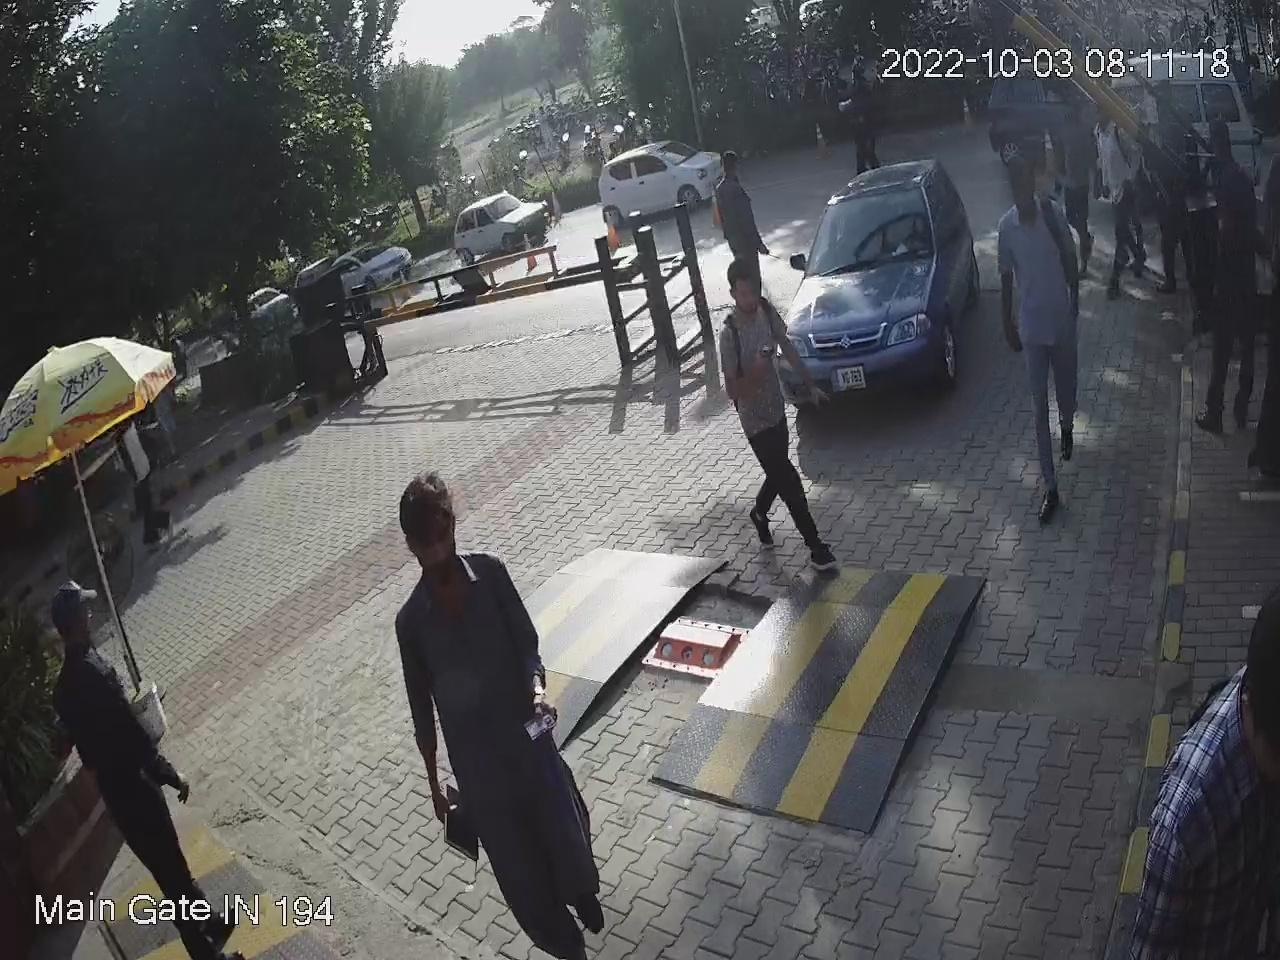windshield: (805, 181, 938, 270)
